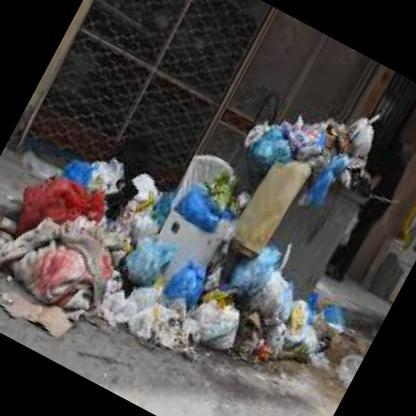Garbage: (254, 74, 402, 203), (14, 156, 124, 260), (100, 277, 214, 374), (234, 301, 322, 384), (68, 146, 163, 221), (221, 229, 292, 311), (181, 158, 254, 236), (244, 264, 313, 340), (179, 292, 245, 367), (232, 111, 298, 178), (156, 256, 212, 320), (343, 98, 394, 164), (124, 231, 180, 290), (304, 146, 349, 214), (332, 158, 380, 205), (288, 113, 336, 158), (284, 287, 320, 335)
